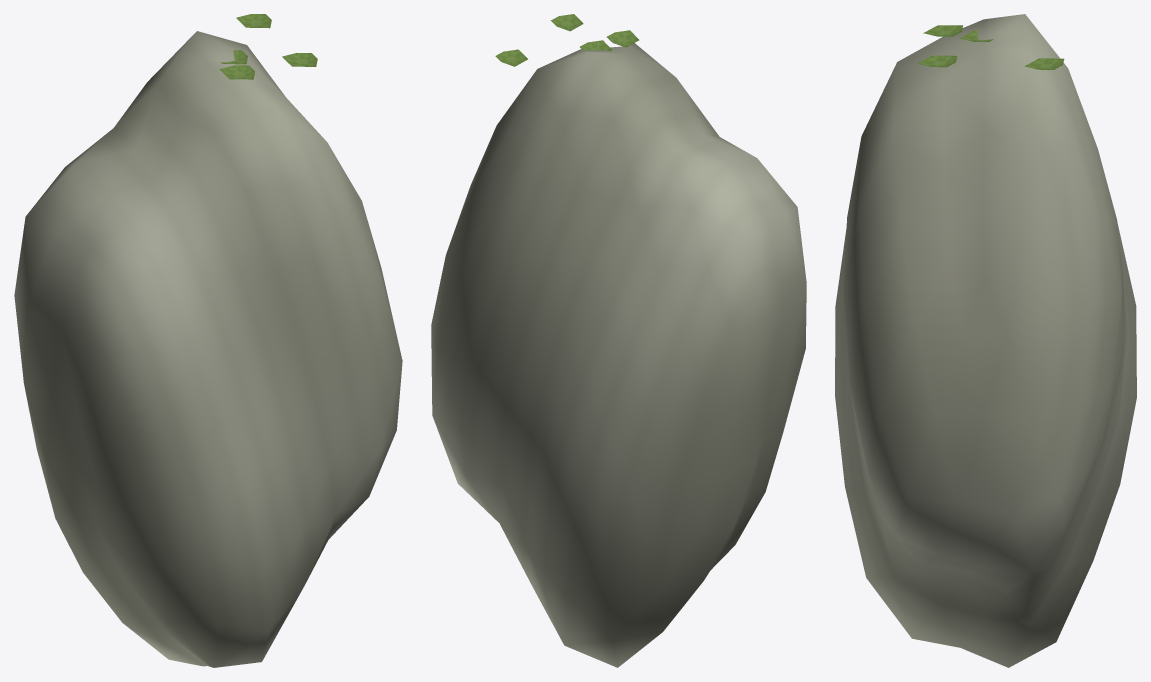
File: rock_spire.glb
3 renders of one model, left to right at view 1: azimuth 30°, elevation 25°; view 2: azimuth 150°, elevation 25°; view 3: azimuth 270°, elevation 25°, orthographic. The views are drawn at different scales.
Parts seen in each view (by area): view 1: rock_spire; view 2: rock_spire; view 3: rock_spire.
Boxes of the visible parts, x1,y1,x2,y2 form: rock_spire: (14, 14, 402, 667); rock_spire: (431, 14, 806, 667); rock_spire: (835, 14, 1136, 667).
Size of the model in its own units: 2.76 by 4.86 by 2.05.
Materials: 1 (1 with a texture image).
